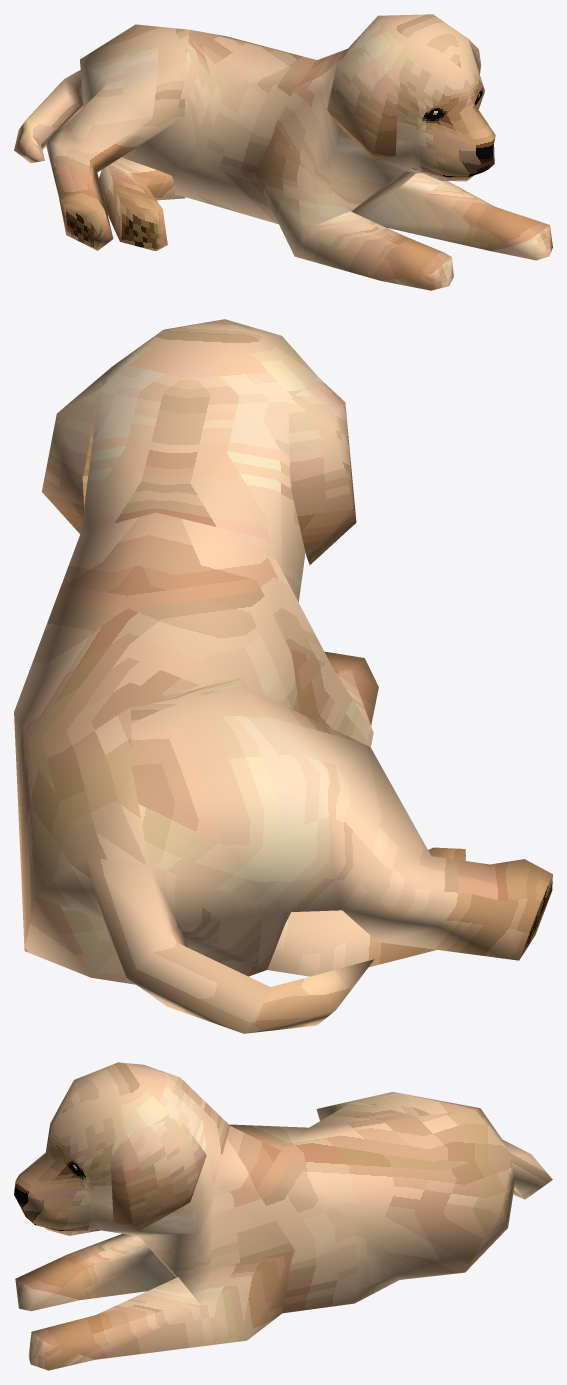
The model's file is int_nin_dog_La.dae.
3 views of the same model, one above another, from view 1: azimuth 30°, elevation 25°; view 2: azimuth 150°, elevation 25°; view 3: azimuth 270°, elevation 25° (orthographic). The views are drawn at different scales.
Visible parts, largest first — view 1: _0_0_node; view 2: _0_0_node; view 3: _0_0_node.
Part boxes in pixels (x1,y1,x2,y2): _0_0_node: (14,14,552,290); _0_0_node: (14,319,552,1033); _0_0_node: (14,1062,552,1370).
Size of the model in its own units: 23.93 by 13.99 by 27.91.
1 material, 1 textured.
